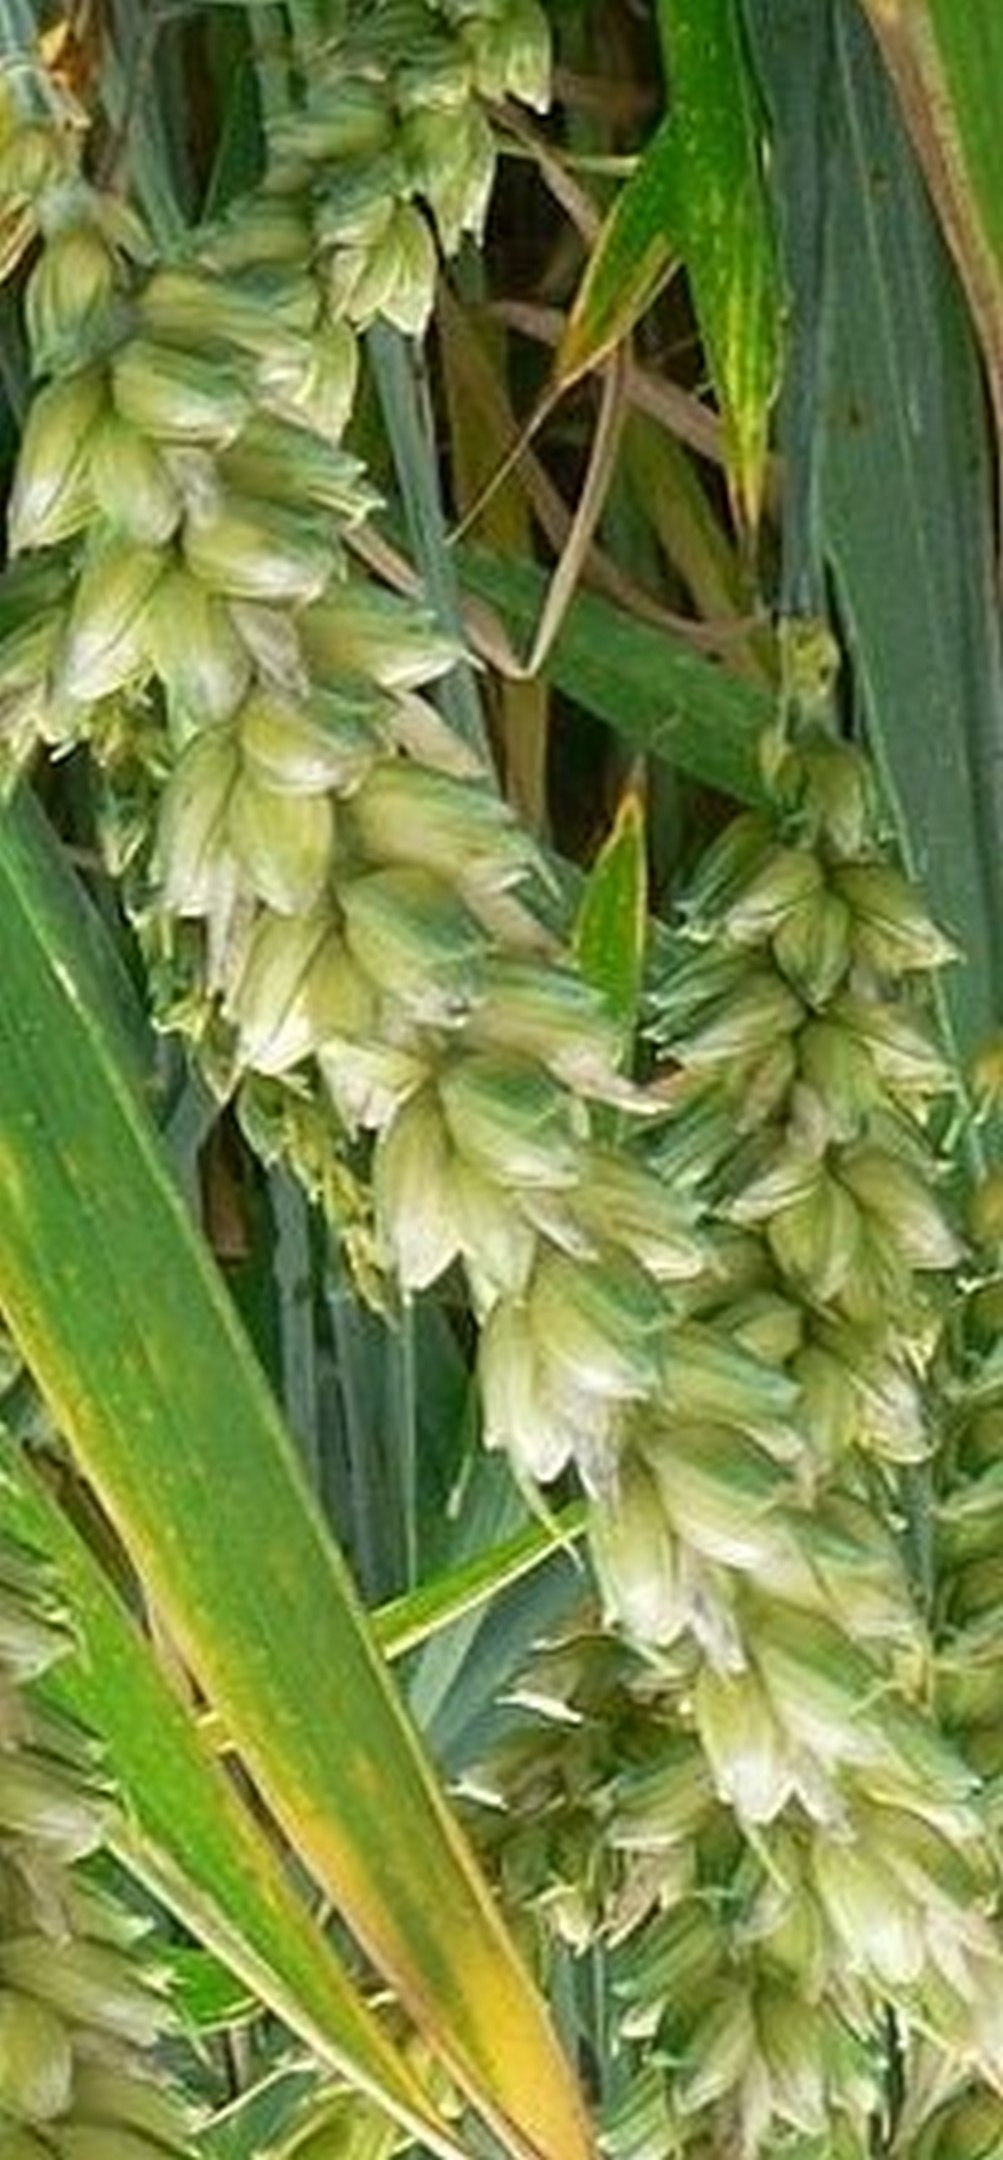Healthy Wheat: (37, 284, 1002, 2019)
